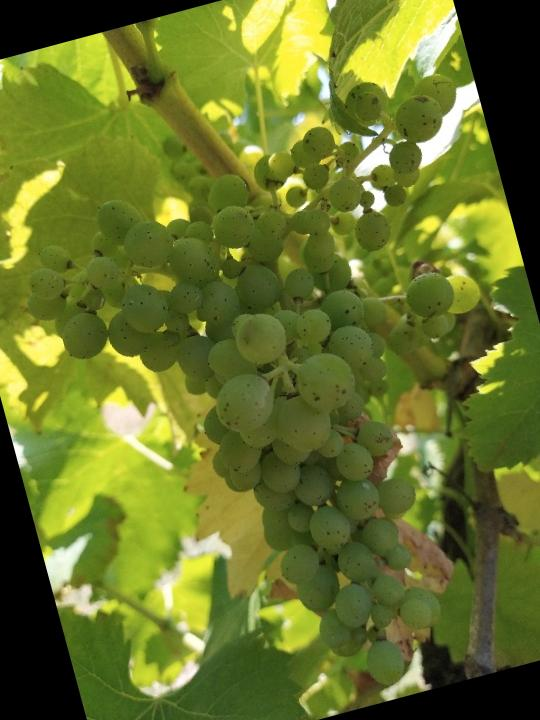grape: (0, 59, 540, 720)
